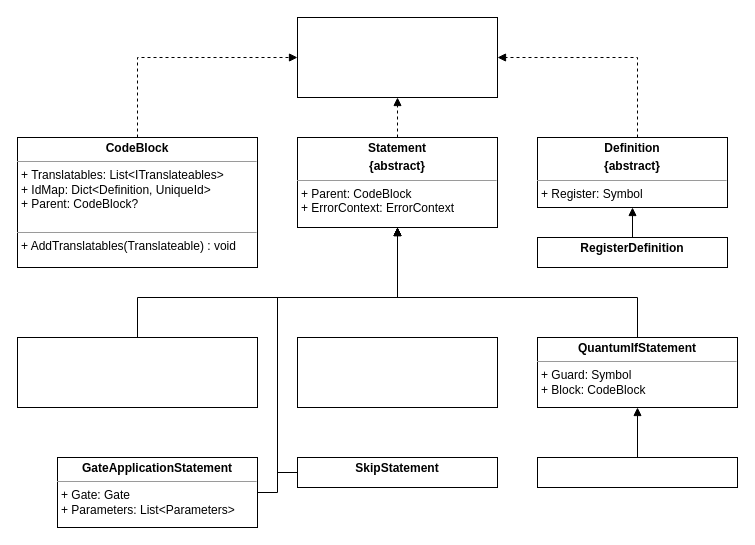
Some shapes in this 755 by 545 pixel diagram are drawn without their labels. Each missing label, with the box of its shape:
<<Interface>> ITranslateable + ToQASM(context): QASMProgram: (296, 16, 498, 98)
CompositeGate + Gate: CompositeGate + Parameters: Dict<Parameter, Symbol>: (16, 336, 258, 408)
ForLoopStatement + Iterator: LoopIterator + Body: CodeBlock: (296, 336, 498, 408)
QuantumElseStatement: (536, 456, 738, 488)
